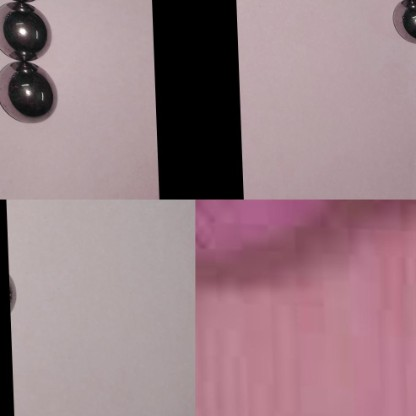ironball: (0, 60, 60, 126), (0, 2, 60, 65)
